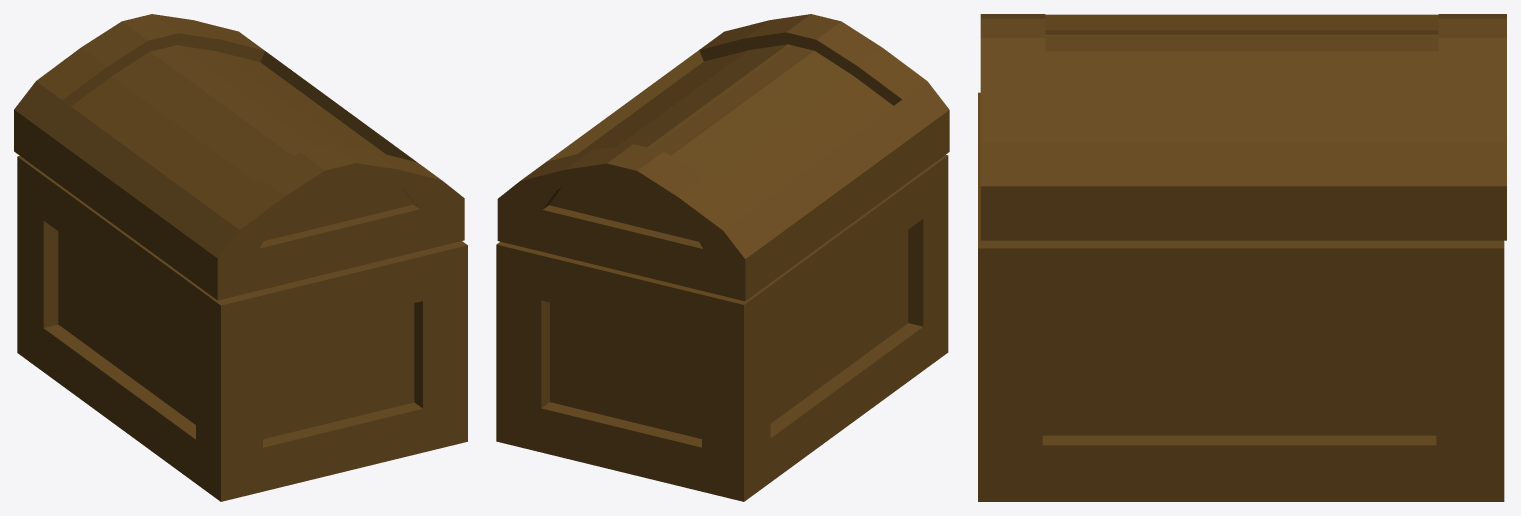
Rendered from chest.glb.
The picture shows the model from 3 angles, left to right: view 1: azimuth 30°, elevation 25°; view 2: azimuth 150°, elevation 25°; view 3: azimuth 270°, elevation 25°; orthographic projection. The views are drawn at different scales.
Visible parts, largest first — view 1: Cube.001; view 2: Cube.001; view 3: Cube.001.
Part boxes in pixels (x1=…): Cube.001: x1=14, y1=14, x2=467, y2=501; Cube.001: x1=496, y1=14, x2=949, y2=501; Cube.001: x1=978, y1=14, x2=1506, y2=501.
Size of the model in its own units: 1.41 by 1.65 by 2.01.
